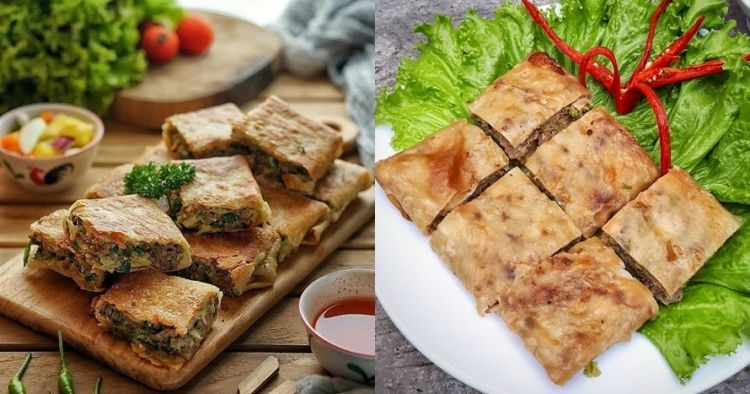martabak: (374, 49, 743, 386), (25, 95, 372, 375)
